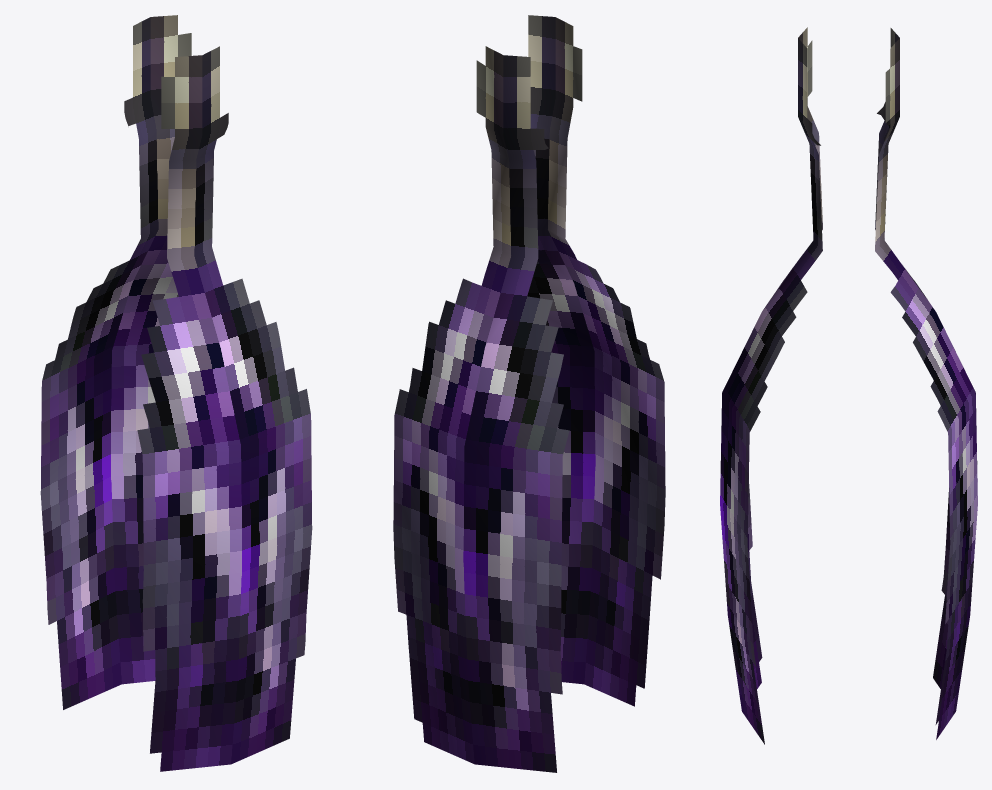
The model's file is SolidAdventurer.fbx.
3 renders of one model, left to right at view 1: azimuth 30°, elevation 25°; view 2: azimuth 150°, elevation 25°; view 3: azimuth 270°, elevation 25°, orthographic. The views are drawn at different scales.
Parts seen in each view (by area): view 1: Item_SolidAdventurer; view 2: Item_SolidAdventurer; view 3: Item_SolidAdventurer.
Boxes of the visible parts, x1,y1,x2,y2 form: Item_SolidAdventurer: [40, 15, 312, 771]; Item_SolidAdventurer: [393, 15, 665, 772]; Item_SolidAdventurer: [720, 27, 977, 744].
Bounding box in the file's own units: 0.3088 × 0.6252 × 0.217.
Materials: 1 (1 with a texture image).
